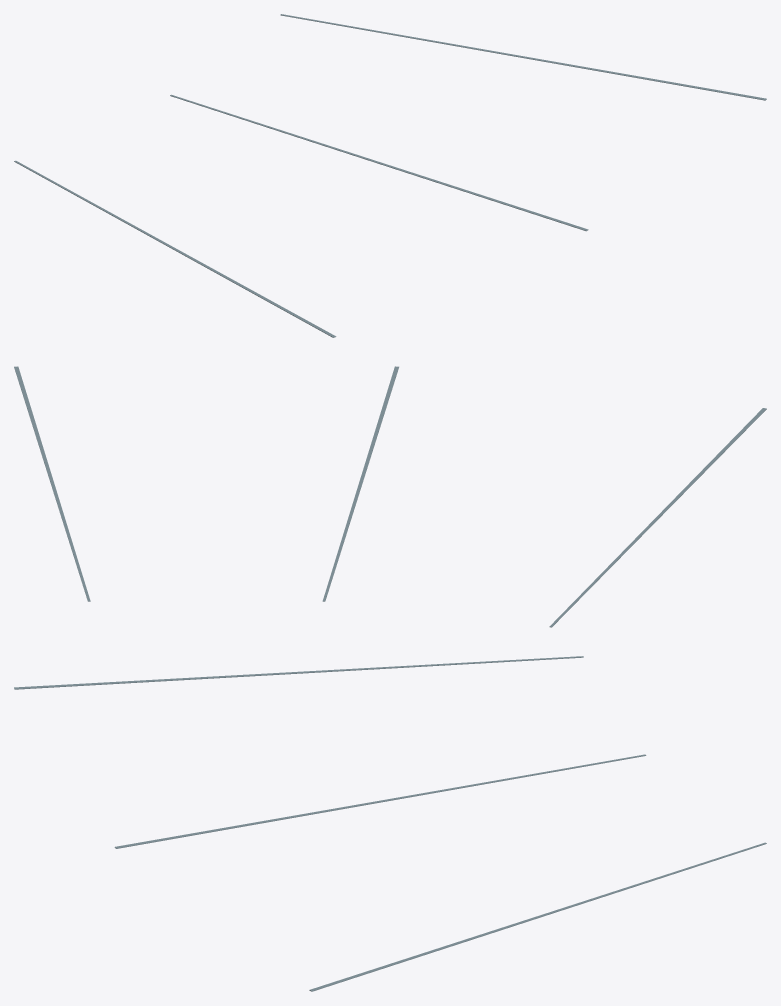
File: Transit_Walk_W4_Curve45_R8_MarkPaverJoints.glb
The picture shows the model from 3 angles, top to bottom: view 1: azimuth 30°, elevation 25°; view 2: azimuth 150°, elevation 25°; view 3: azimuth 270°, elevation 25°; orthographic projection. The views are drawn at different scales.
Visible parts, largest first — view 1: Transit_Walk_W4_Curve45_R8_MarkPaverJoints; view 2: Transit_Walk_W4_Curve45_R8_MarkPaverJoints; view 3: Transit_Walk_W4_Curve45_R8_MarkPaverJoints.
Boxes of the visible parts, left/top/right/bottom form: Transit_Walk_W4_Curve45_R8_MarkPaverJoints: left=14, top=14, right=766, bottom=337; Transit_Walk_W4_Curve45_R8_MarkPaverJoints: left=14, top=366, right=766, bottom=627; Transit_Walk_W4_Curve45_R8_MarkPaverJoints: left=14, top=656, right=766, bottom=991.
Bounding box in the file's own units: 5.25 × 0.003 × 4.98.
